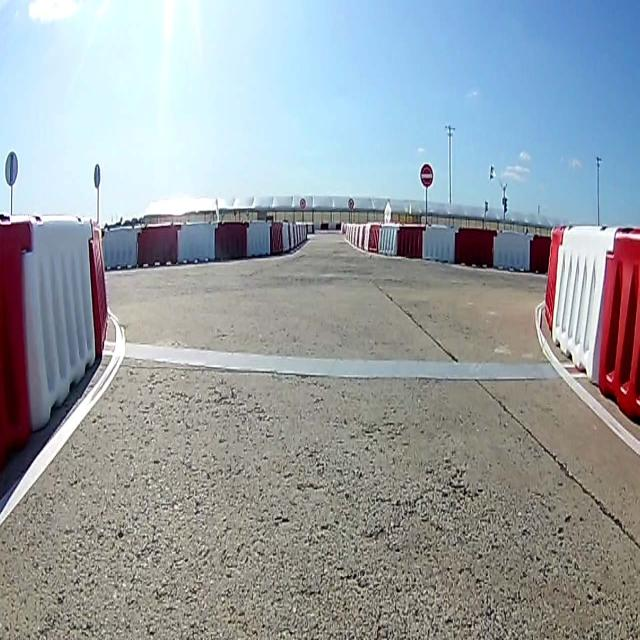girisyok: (420, 164, 432, 188)
